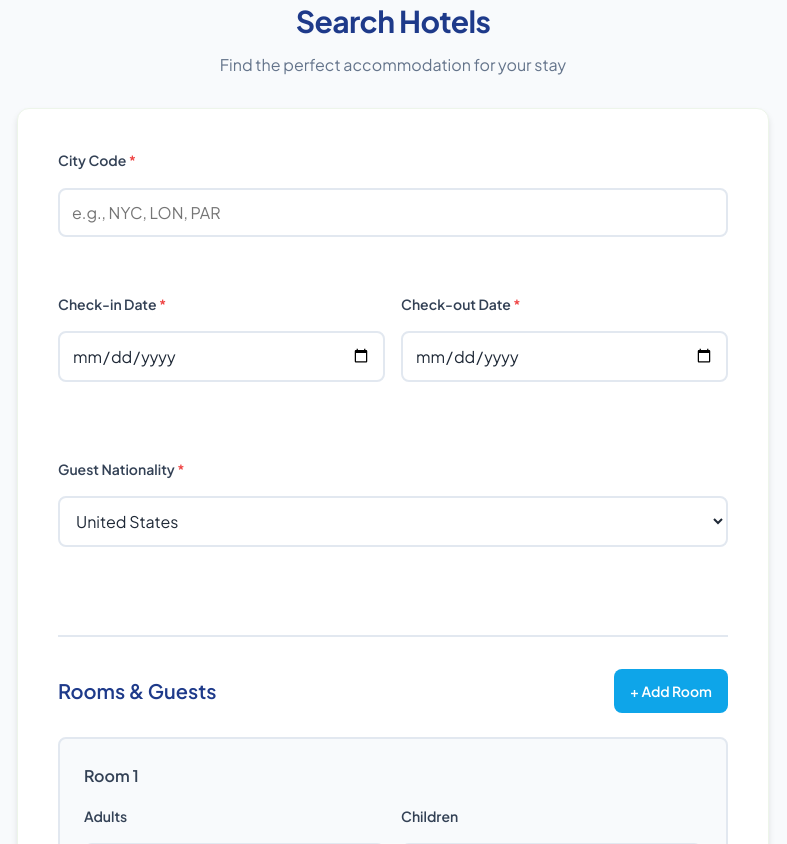
Scenario: HotelSearchForm › Room Management › should add a new room when Add Room button is clicked
Click the button "+ Add Room": (671, 691) x1=614 y1=669 x2=728 y2=713
(page scrolled)
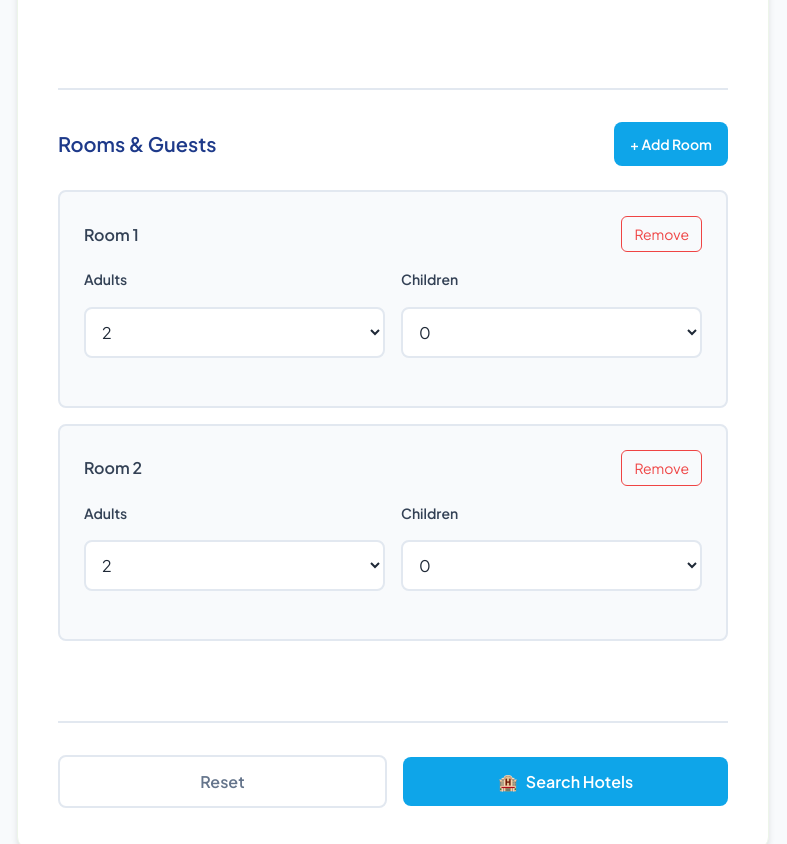
Expected: the heading "Room 1" is shown, x1=84 y1=222 x2=139 y2=247
Now the heading "Room 2" is shown, box x1=84 y1=455 x2=142 y2=481
